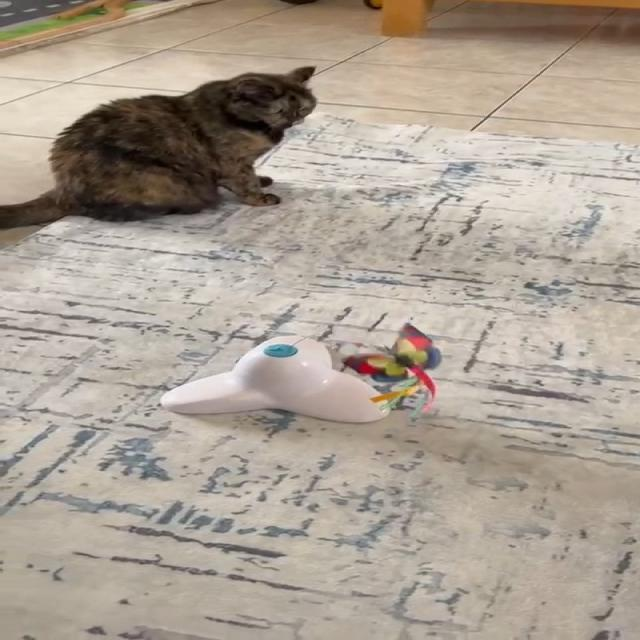authorized: (0, 64, 317, 229)
